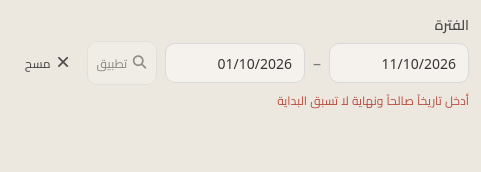
Scenario: opening dates display correctly, reversed ranges disable apply and clear resets both models
Check: the button "تطبيق" is disabled, box [88,41,157,85]
Click the button "مسح" at (48, 63), box [17,41,80,85]
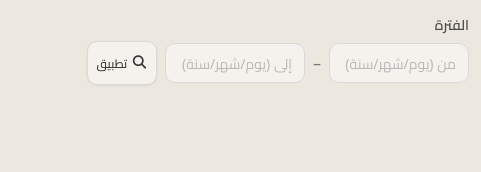
Check: the button "تطبيق" is enabled, box [88,41,157,85]
